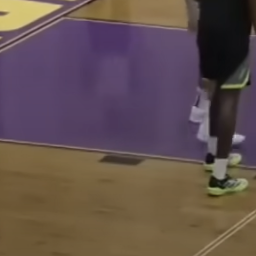block: (98, 153, 147, 166)
